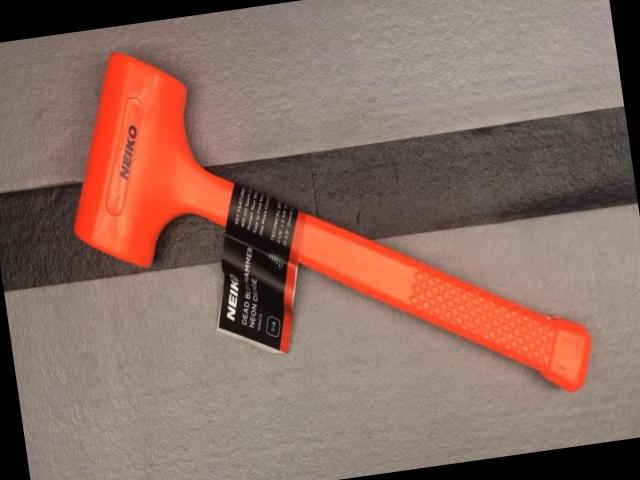hammer: (50, 0, 600, 456)
